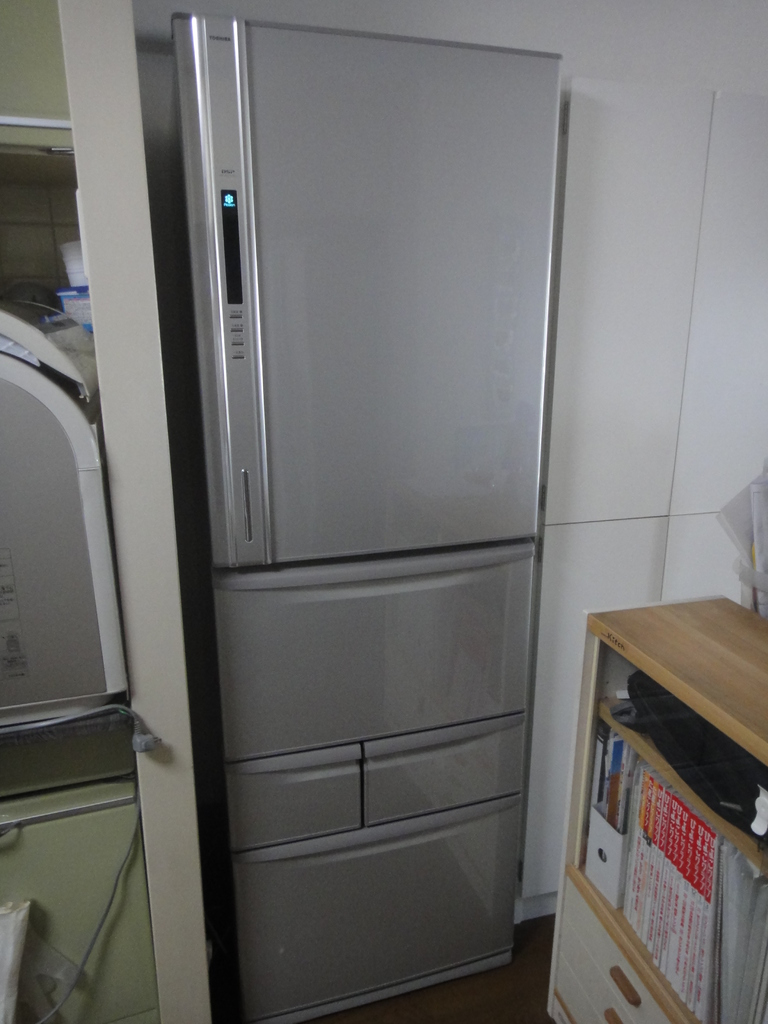cabinet door: (569, 92, 671, 522), (707, 112, 768, 498)
handle: (232, 41, 273, 516), (191, 26, 230, 485), (239, 558, 499, 612), (268, 828, 479, 858), (359, 741, 498, 765), (244, 762, 362, 789), (605, 959, 640, 1010), (603, 998, 623, 1024)
refrigerator door: (186, 33, 532, 548), (227, 572, 523, 731), (259, 836, 503, 978), (362, 735, 517, 818), (226, 744, 361, 832)
